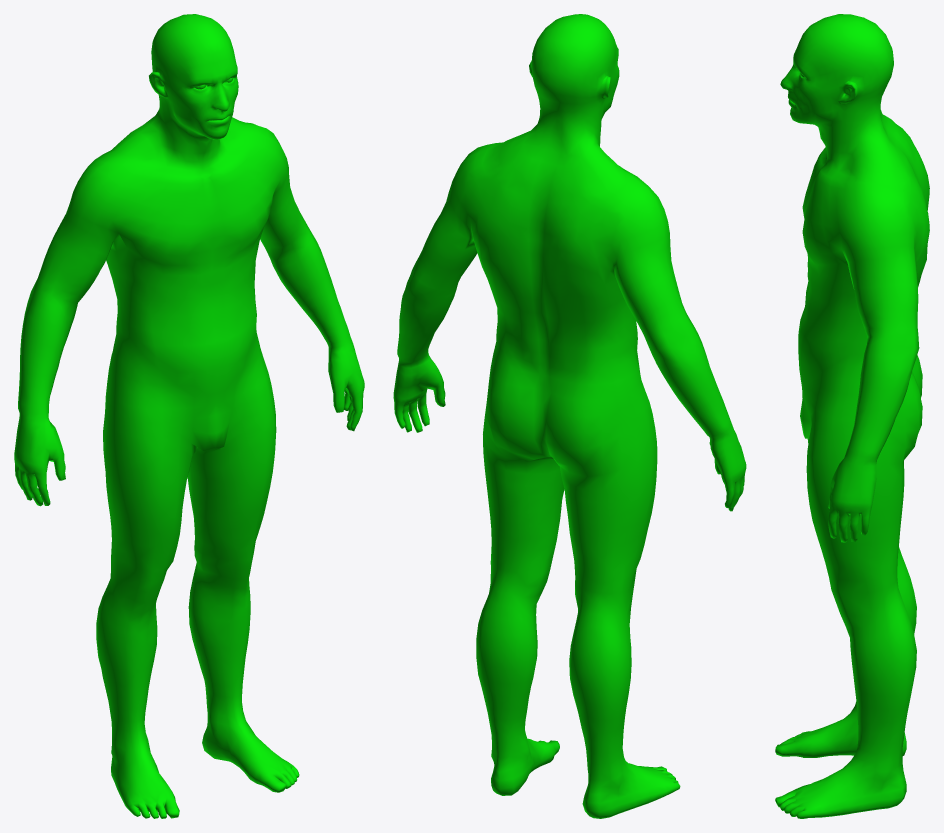
The model's file is Dummy_Human.fbx.
3 views of the same model, side by side, from view 1: azimuth 30°, elevation 25°; view 2: azimuth 150°, elevation 25°; view 3: azimuth 270°, elevation 25° (orthographic).
Visible parts, largest first — view 1: Dummy; view 2: Dummy; view 3: Dummy.
Boxes of the visible parts, x1,y1,x2,y2 form: Dummy: [14, 14, 364, 818]; Dummy: [393, 14, 746, 818]; Dummy: [775, 14, 929, 818].
Size of the model in its own units: 79.57 by 170 by 31.28.
